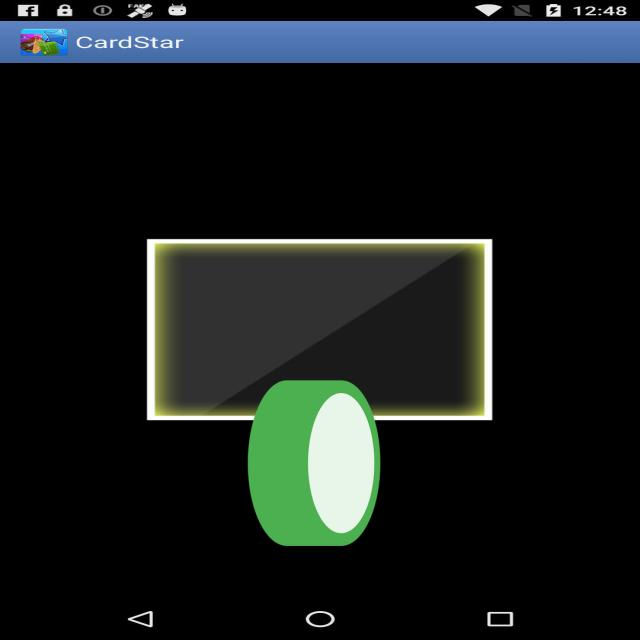social proof: (242, 317, 386, 622)
